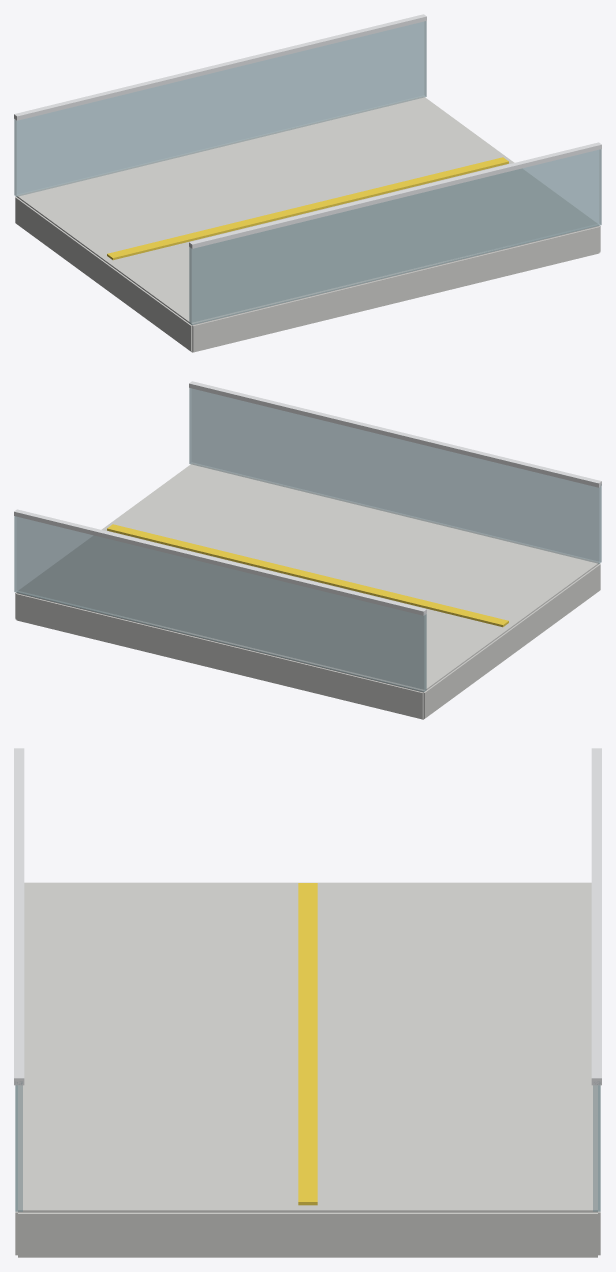
Rendered from bridge_segment.glb.
3 views of the same model, one above another, from view 1: azimuth 30°, elevation 25°; view 2: azimuth 150°, elevation 25°; view 3: azimuth 270°, elevation 25° (orthographic). The views are drawn at different scales.
Parts seen in each view (by area): view 1: bridge_segment; view 2: bridge_segment; view 3: bridge_segment.
Boxes of the visible parts, <box> form: bridge_segment: <box>14,14,601,352</box>; bridge_segment: <box>14,381,601,719</box>; bridge_segment: <box>14,748,601,1257</box>.
Size of the model in its own units: 6 by 1.53 by 4.52.
